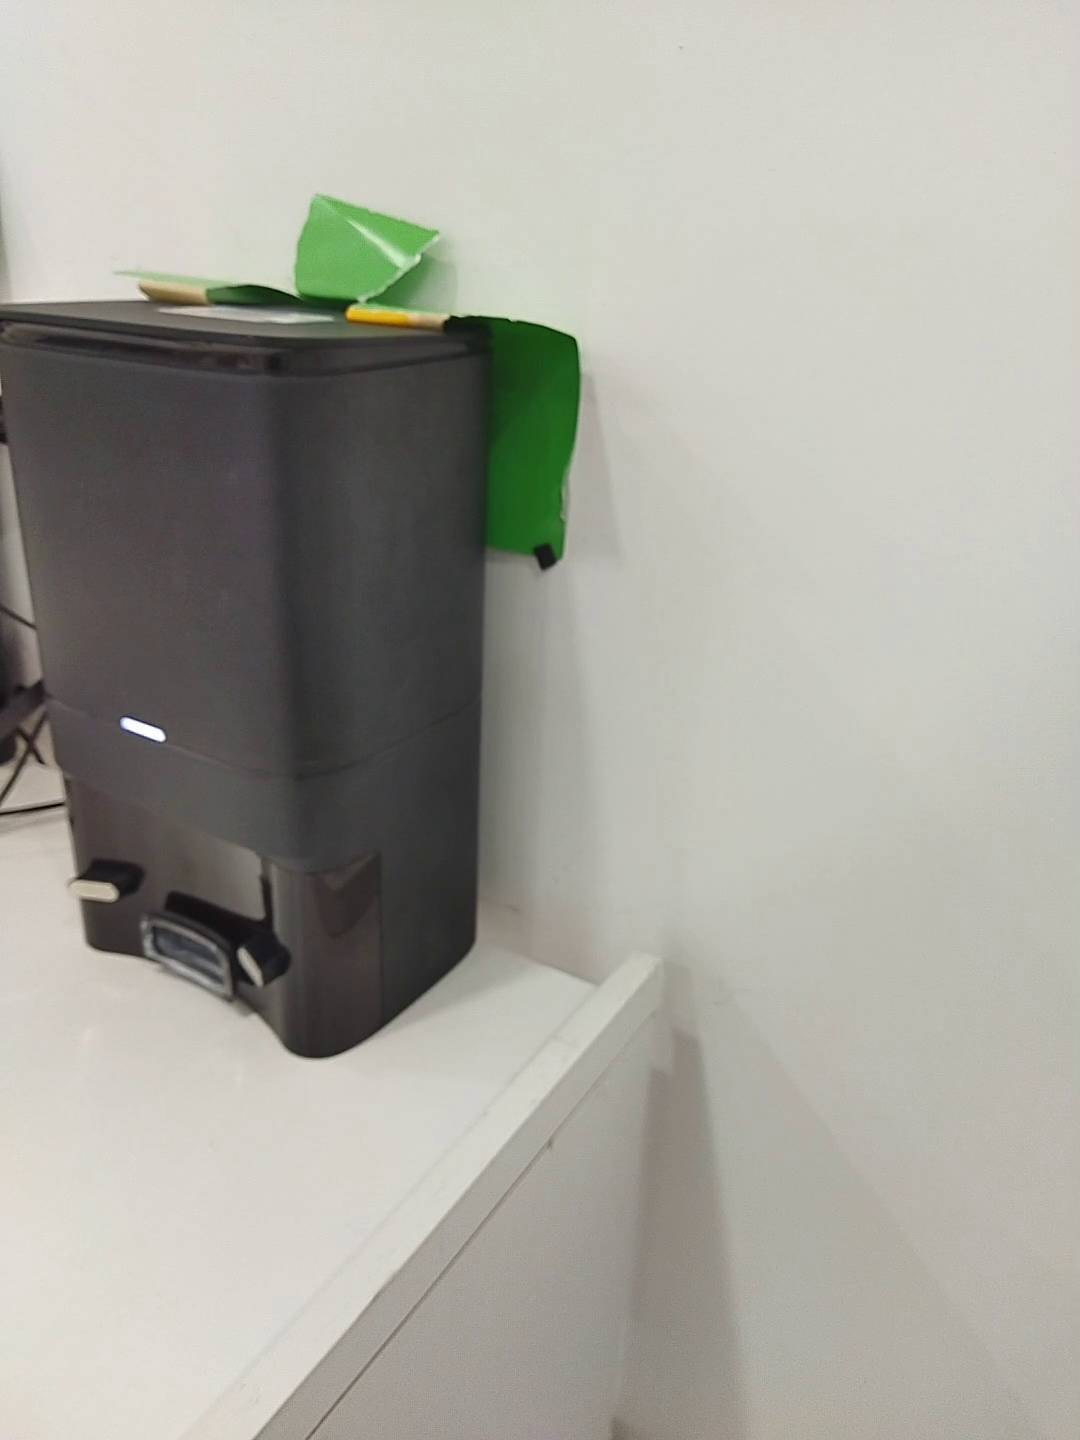dust collecting barrel: (1, 293, 501, 1061)
